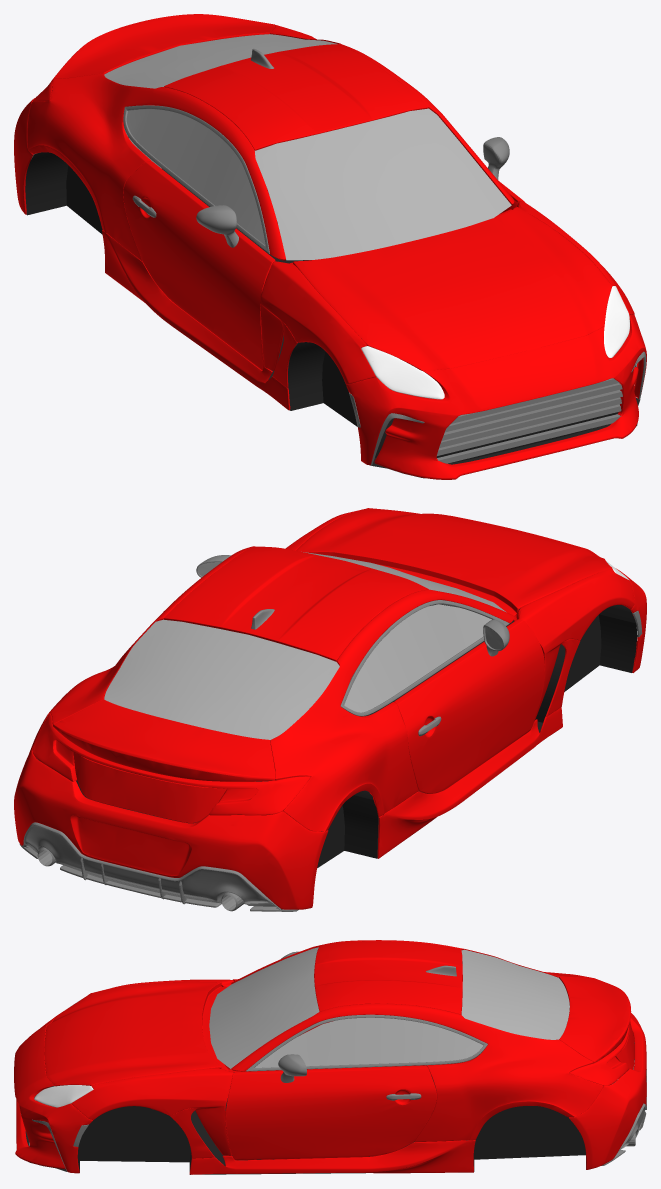
Rendered from Toyota _Final.fbx.
The picture shows the model from 3 angles, top to bottom: view 1: azimuth 30°, elevation 25°; view 2: azimuth 150°, elevation 25°; view 3: azimuth 270°, elevation 25°; orthographic projection. The views are drawn at different scales.
Parts seen in each view (by area): view 1: Toyota__Final; view 2: Toyota__Final; view 3: Toyota__Final.
Boxes of the visible parts, x1,y1,x2,y2 form: Toyota__Final: (14, 14, 646, 479); Toyota__Final: (14, 508, 646, 911); Toyota__Final: (14, 940, 646, 1174).
Size of the model in its own units: 194 by 123 by 447.
